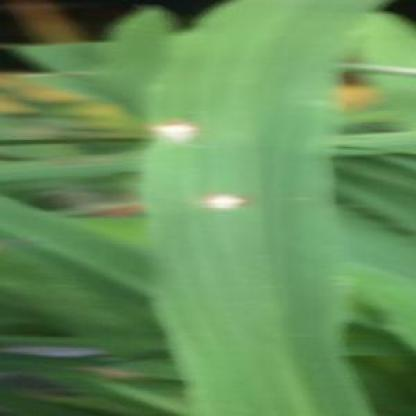Rice blast: (143, 126, 204, 158), (194, 188, 248, 223)
